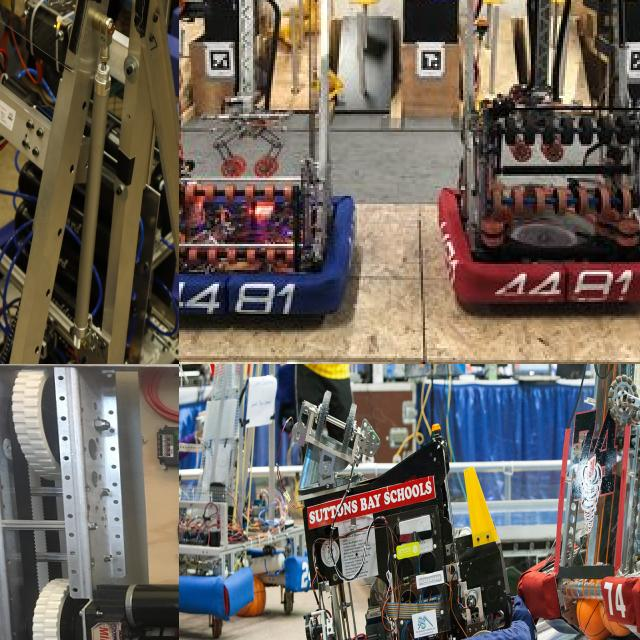FRC-Robots: (281, 364, 527, 640), (0, 0, 179, 364), (443, 0, 640, 316), (179, 0, 359, 328), (503, 364, 640, 640), (179, 364, 309, 629)
